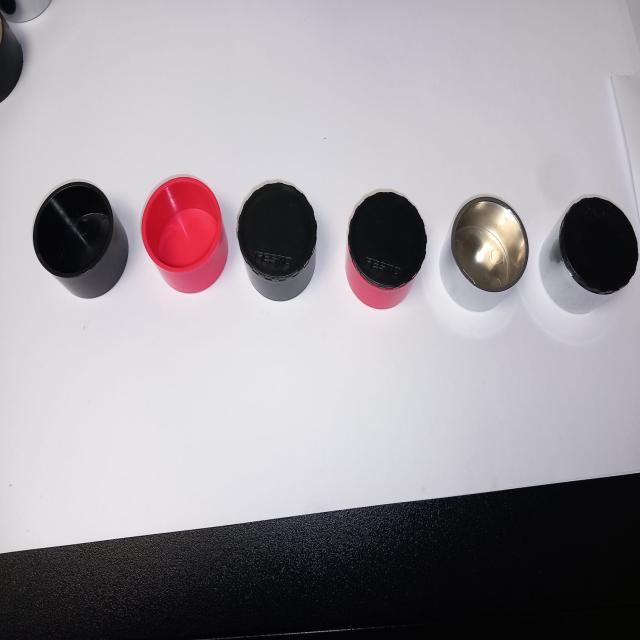NoLid: (12, 165, 138, 314), (442, 186, 536, 314), (142, 164, 229, 290)
Workpiece: (231, 166, 334, 314), (349, 180, 437, 323), (546, 190, 633, 323)
